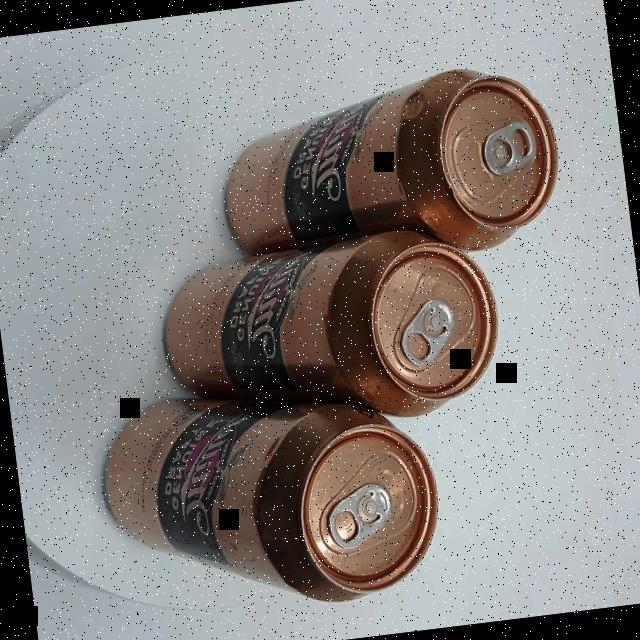can: (94, 367, 448, 628), (154, 220, 506, 446), (212, 58, 568, 280)
